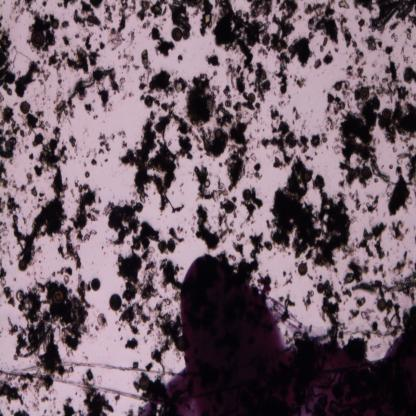Background material: (271, 155, 359, 273), (12, 126, 67, 262), (120, 112, 185, 214), (332, 97, 389, 186), (53, 64, 122, 124), (213, 0, 265, 70), (45, 277, 92, 352), (260, 106, 310, 158), (17, 282, 53, 352), (270, 0, 296, 92), (230, 101, 258, 186), (103, 198, 145, 247), (68, 180, 100, 242), (152, 302, 184, 362), (34, 127, 68, 179), (186, 72, 216, 129), (378, 103, 416, 147), (161, 102, 200, 144), (376, 56, 409, 103), (369, 0, 416, 33), (304, 1, 339, 45), (113, 252, 143, 302), (193, 164, 230, 204), (385, 164, 414, 215), (322, 278, 345, 341), (236, 234, 266, 280), (195, 203, 221, 250), (359, 220, 388, 260), (198, 125, 230, 161), (119, 300, 150, 337), (15, 59, 44, 97), (0, 27, 15, 96), (26, 10, 55, 45), (148, 70, 187, 96), (0, 104, 19, 156), (58, 226, 82, 267), (72, 1, 102, 32), (130, 221, 160, 251), (6, 318, 30, 355), (39, 342, 65, 376), (108, 7, 128, 51), (191, 0, 214, 36), (141, 262, 161, 303), (160, 259, 181, 298), (150, 26, 176, 57), (82, 390, 114, 415), (224, 59, 245, 95), (254, 61, 272, 102), (289, 38, 312, 70), (242, 188, 263, 222), (0, 377, 23, 406), (396, 151, 416, 184), (169, 0, 191, 30), (67, 48, 89, 76), (20, 377, 52, 396), (346, 259, 370, 284), (388, 300, 402, 341), (0, 269, 15, 307), (216, 100, 236, 128), (26, 111, 52, 132), (390, 251, 412, 275), (363, 320, 388, 341), (247, 0, 273, 19), (339, 14, 353, 48), (96, 86, 113, 114), (388, 222, 410, 243), (324, 94, 347, 114), (48, 50, 68, 73), (118, 53, 139, 74), (217, 214, 233, 240), (176, 135, 193, 159), (6, 192, 23, 216), (351, 41, 366, 67), (139, 94, 162, 110), (256, 272, 272, 295), (348, 188, 362, 213), (364, 192, 379, 215), (10, 0, 25, 23), (150, 0, 169, 18), (136, 0, 152, 21), (353, 1, 375, 16), (54, 74, 66, 101), (234, 233, 246, 260), (102, 0, 116, 23), (97, 133, 112, 154), (168, 226, 185, 244), (62, 396, 78, 415), (141, 245, 157, 264), (140, 48, 153, 71), (302, 289, 315, 312), (366, 34, 382, 52), (310, 132, 328, 148), (342, 80, 355, 102), (53, 267, 72, 282), (0, 160, 10, 188), (81, 369, 96, 387), (372, 262, 387, 280), (81, 31, 94, 51), (68, 134, 79, 156), (90, 48, 101, 68), (11, 182, 29, 194), (124, 337, 139, 351), (270, 156, 285, 170), (205, 52, 220, 66), (56, 0, 76, 10), (356, 65, 368, 81), (137, 73, 147, 92), (283, 269, 294, 286), (354, 294, 367, 308), (0, 192, 7, 217), (353, 81, 360, 106), (401, 46, 411, 63), (0, 221, 8, 242), (323, 51, 334, 66), (264, 239, 275, 254), (254, 163, 263, 181), (318, 36, 328, 52), (10, 408, 30, 416), (222, 86, 233, 100), (346, 64, 356, 79), (389, 20, 401, 32), (30, 184, 39, 200), (361, 309, 374, 320), (348, 308, 359, 321), (128, 0, 138, 14), (36, 193, 45, 208), (357, 17, 366, 32), (341, 286, 352, 298), (83, 102, 93, 115), (338, 0, 351, 10), (25, 172, 34, 186), (296, 76, 306, 88), (146, 322, 154, 337), (40, 394, 50, 406), (387, 298, 394, 315), (59, 20, 71, 29), (89, 0, 104, 7), (24, 1, 34, 11), (141, 20, 151, 30), (62, 35, 71, 46), (119, 76, 127, 88), (315, 58, 322, 71), (408, 14, 416, 25), (406, 27, 412, 41), (385, 46, 394, 55), (391, 32, 399, 42), (100, 38, 106, 50), (130, 31, 136, 42), (84, 170, 91, 179), (131, 360, 138, 368), (177, 55, 183, 63), (41, 0, 47, 7), (92, 159, 97, 166)
Cellulose filter fibre: (0, 370, 148, 401), (15, 354, 175, 378), (353, 278, 416, 293)
Diatom: (156, 253, 416, 415), (109, 294, 122, 310), (138, 376, 151, 391), (52, 290, 64, 305), (33, 32, 45, 47), (359, 86, 370, 100), (382, 107, 392, 122), (90, 278, 100, 292), (18, 259, 28, 273), (377, 298, 387, 312), (172, 27, 182, 41), (298, 262, 308, 276), (154, 121, 165, 133), (20, 101, 30, 114), (362, 166, 372, 178), (242, 188, 251, 201), (167, 240, 176, 252), (247, 92, 256, 104), (225, 202, 234, 214), (97, 312, 104, 326), (404, 70, 412, 82), (317, 282, 325, 294), (160, 240, 168, 252), (262, 36, 270, 47), (304, 172, 312, 182), (51, 19, 59, 29), (216, 128, 223, 139), (334, 82, 342, 90), (183, 30, 188, 39)
